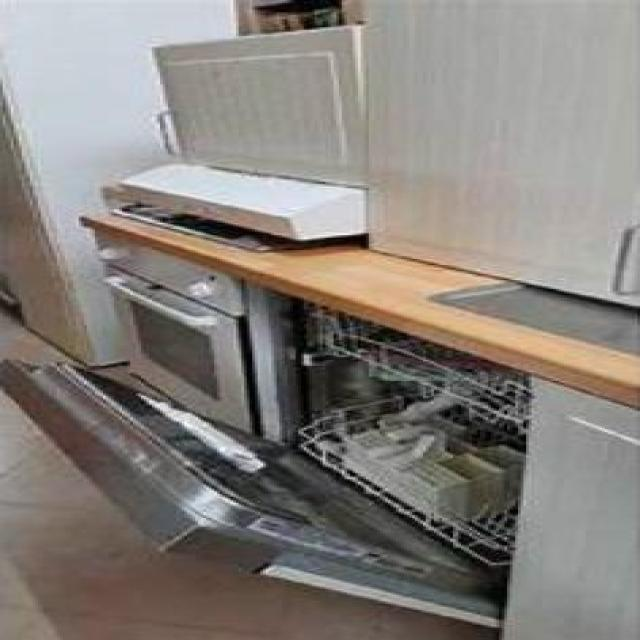dishwasher: (0, 286, 526, 628)
